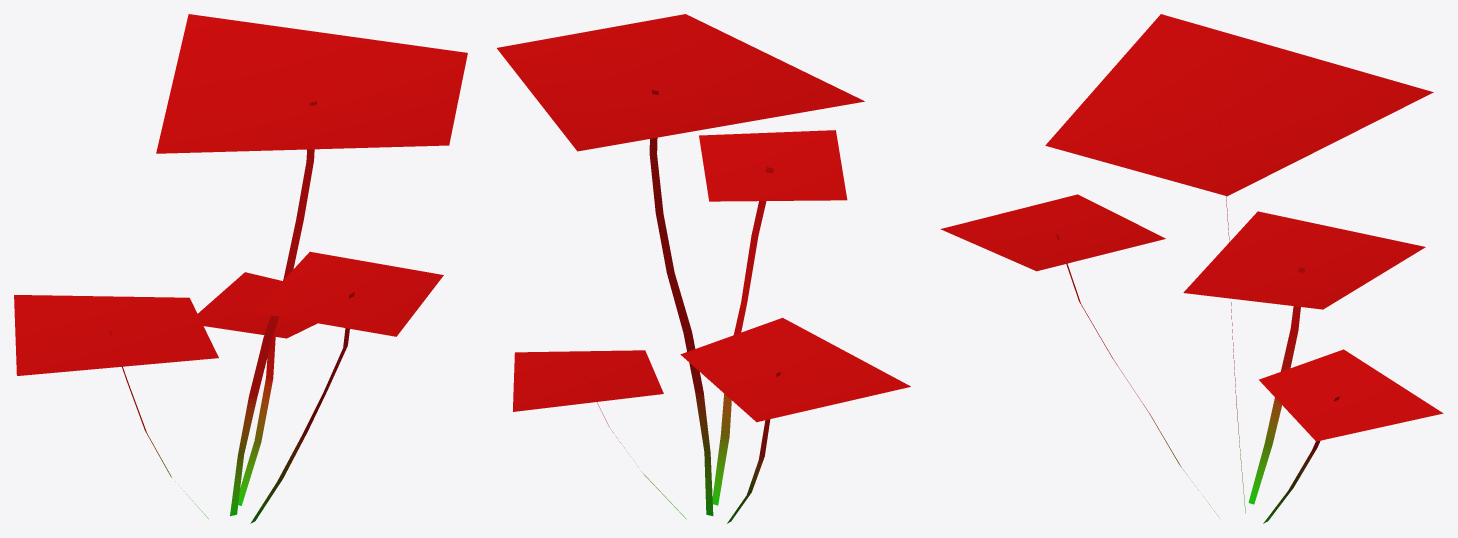
Rendered from Wood Sorrel_LOD2_Var13_wcwmchzja.fbx.
3 renders of one model, left to right at view 1: azimuth 30°, elevation 25°; view 2: azimuth 150°, elevation 25°; view 3: azimuth 270°, elevation 25°, orthographic. The views are drawn at different scales.
Parts seen in each view (by area): view 1: _6gm3_Var13_LOD2; view 2: _6gm3_Var13_LOD2; view 3: _6gm3_Var13_LOD2.
Boxes of the visible parts, box(x1,y1,x2,y2) form: _6gm3_Var13_LOD2: box(14, 14, 467, 523); _6gm3_Var13_LOD2: box(497, 14, 910, 523); _6gm3_Var13_LOD2: box(940, 14, 1443, 523).
Size of the model in its own units: 11.04 by 10.28 by 10.51.
